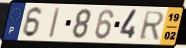4: (118, 9, 138, 43)
6: (93, 8, 116, 40), (22, 6, 44, 39)
8: (71, 8, 92, 40)
I: (47, 7, 61, 40)
R: (138, 11, 165, 41)
